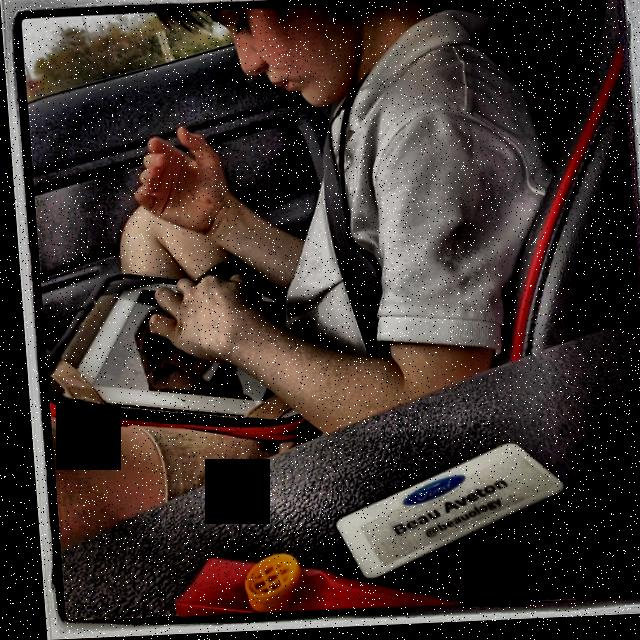seatbelt: (304, 102, 394, 358)
